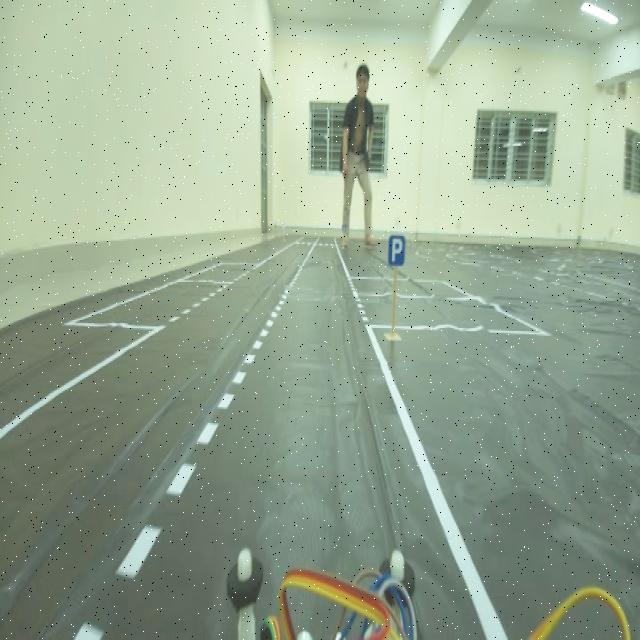parking: (386, 228, 406, 274)
